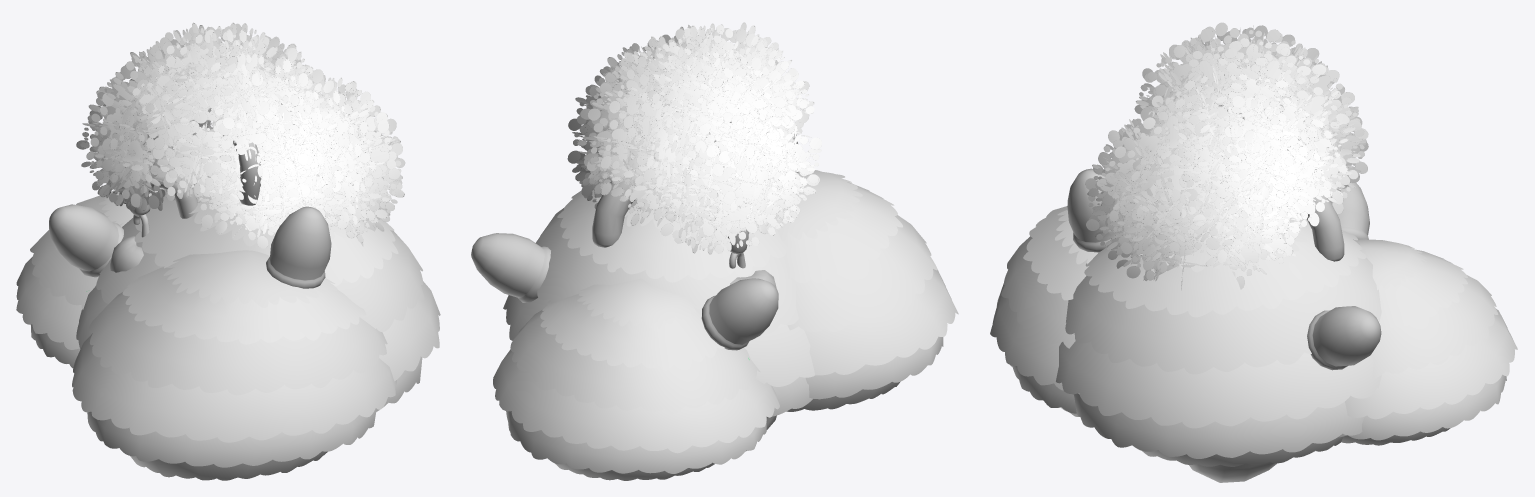
File: SlimyModels_Resources.fbx
3 renders of one model, left to right at view 1: azimuth 30°, elevation 25°; view 2: azimuth 150°, elevation 25°; view 3: azimuth 270°, elevation 25°, orthographic.
Visible parts, largest first — view 1: PlugberryBush, CandyCaneAppleBush, Plugberries, CandyCaneApples; view 2: PlugberryBush, CandyCaneAppleBush, Plugberries; view 3: PlugberryBush, CandyCaneAppleBush, Plugberries, LightOutcrop.
Part boxes in pixels (x1=…): PlugberryBush: x1=16, y1=188, x2=440, y2=480; CandyCaneAppleBush: x1=76, y1=22, x2=405, y2=248; Plugberries: x1=49, y1=204, x2=331, y2=291; CandyCaneApples: x1=110, y1=214, x2=149, y2=272; PlugberryBush: x1=493, y1=170, x2=958, y2=480; CandyCaneAppleBush: x1=567, y1=22, x2=821, y2=254; Plugberries: x1=471, y1=134, x2=798, y2=359; PlugberryBush: x1=990, y1=206, x2=1517, y2=466; CandyCaneAppleBush: x1=1085, y1=22, x2=1368, y2=289; Plugberries: x1=1067, y1=168, x2=1381, y2=370; LightOutcrop: x1=1189, y1=462, x2=1276, y2=482.
Bounding box in the file's own units: 1.92 × 2.14 × 2.35.
